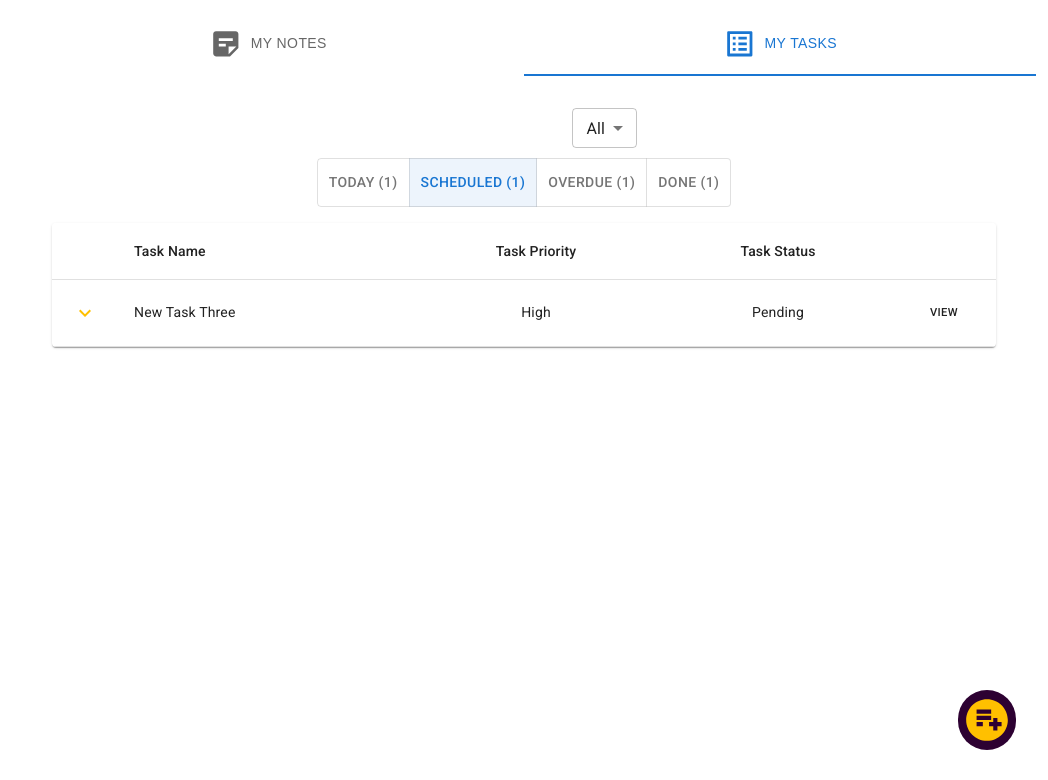
Test: Display Tasks › Fetch tasks for tasks tab
expect the text "New Task Three" is shown: met, box [118, 280, 412, 346]
Step 1. Click the button "Today (1)" → coordinates (363, 182), box [317, 158, 410, 206]
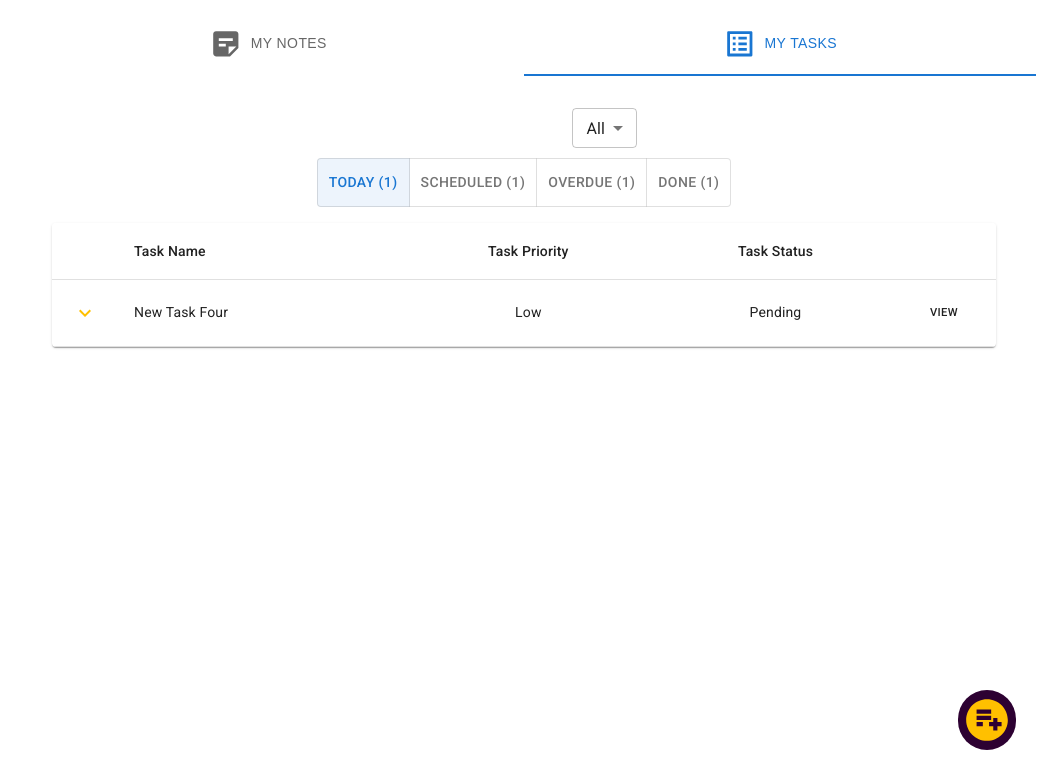
expect the text "New Task Four" is shown: met, box [118, 280, 402, 346]
Step 2. Click the button "Overdue (1)" → coordinates (592, 182), box [536, 158, 647, 206]
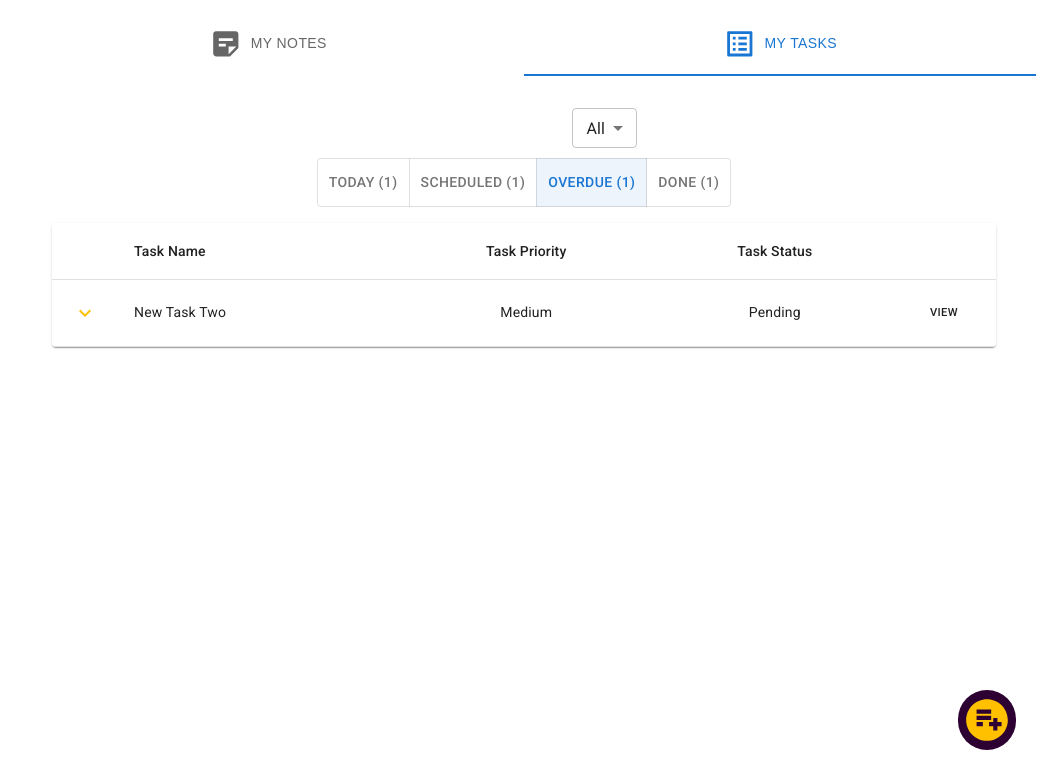
expect the text "New Task Two" is shown: met, box [118, 280, 399, 346]
Step 3. Click the button "Done (1)" → coordinates (689, 182), box [646, 158, 731, 206]
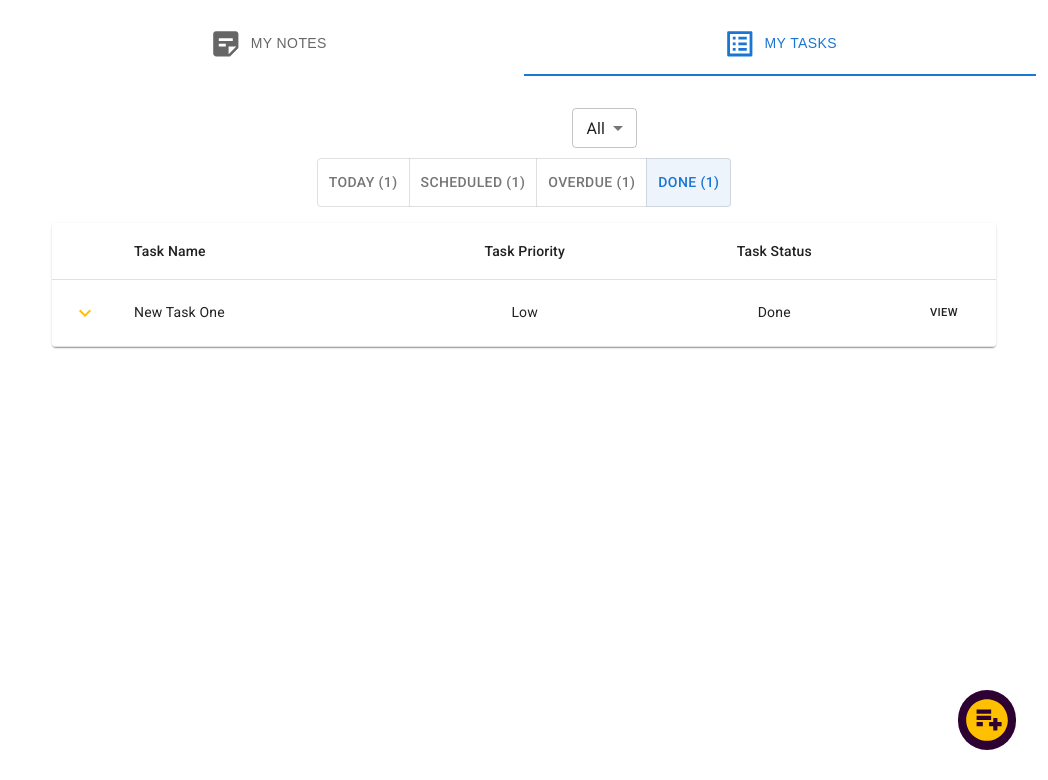
expect the text "New Task One" is shown: met, box [118, 280, 397, 346]
